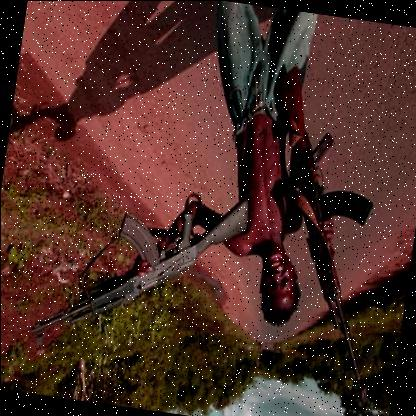rifle: (235, 70, 409, 386), (32, 158, 255, 372)
